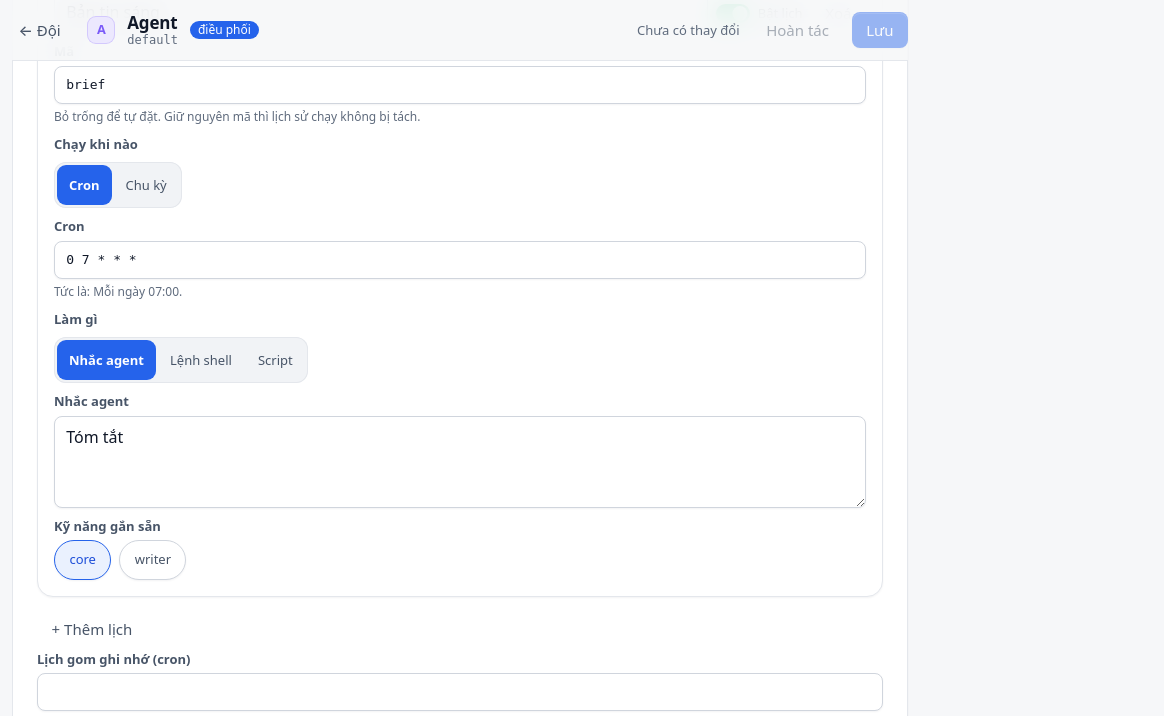
Test: a prompt to follow that was typed and taken back › does not stay on a prompt row that was a script for a moment
(page scrolled)
Click the button "Script".
click(275, 360)  # box [246,340,305,380]
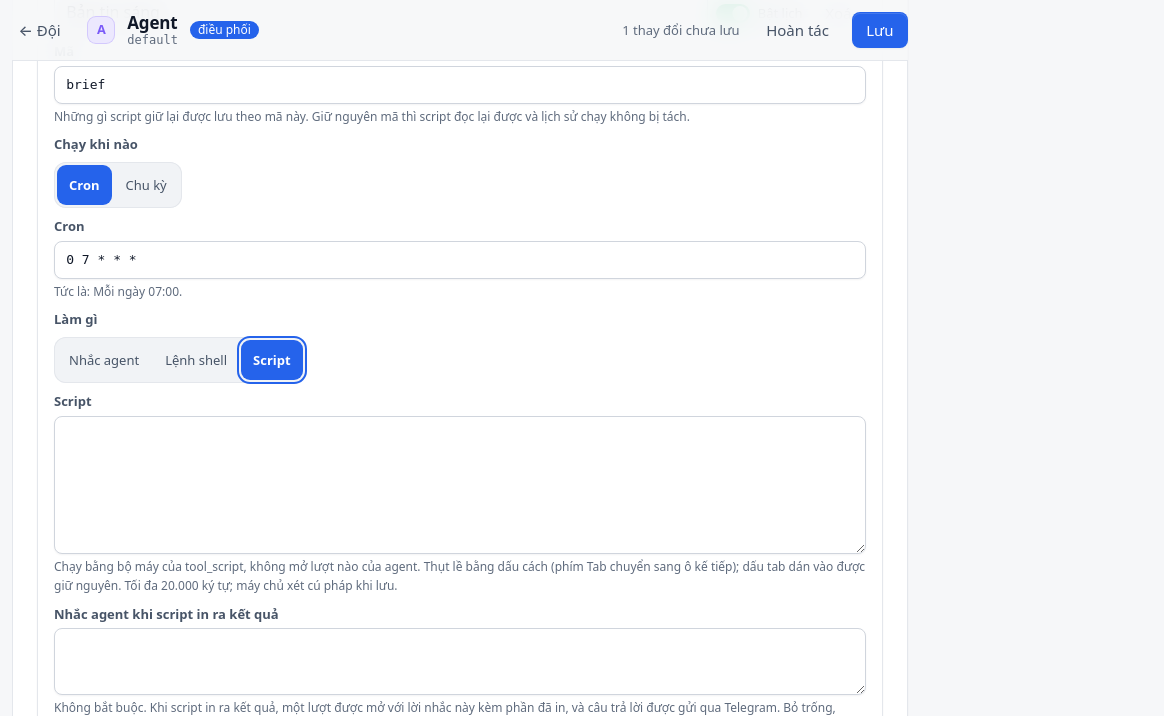
Type "Báo kết quả" into the text box labelled "Nhắc agent khi script in ra kết quả".
click(460, 662); type("Báo kết quả")  # box [54,628,866,695]
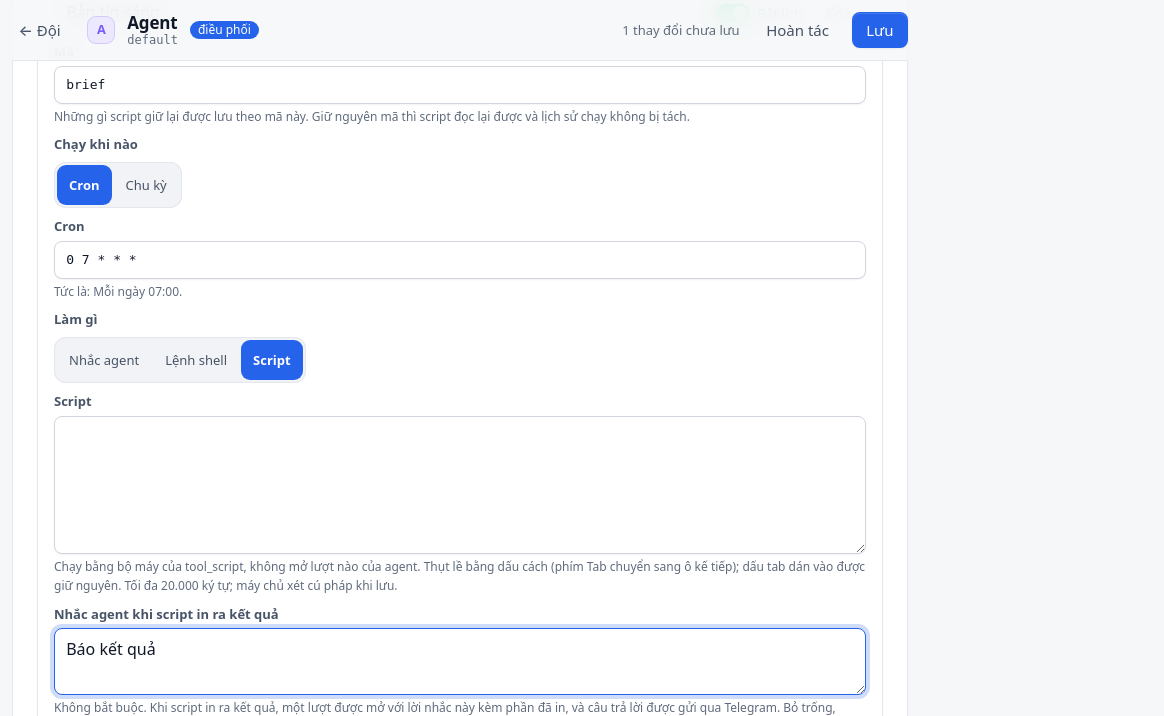
Check: the button "Lưu" is enabled, box [852,12,908,48]
Click the button "Nhắc agent".
click(104, 360)  # box [57,340,151,380]
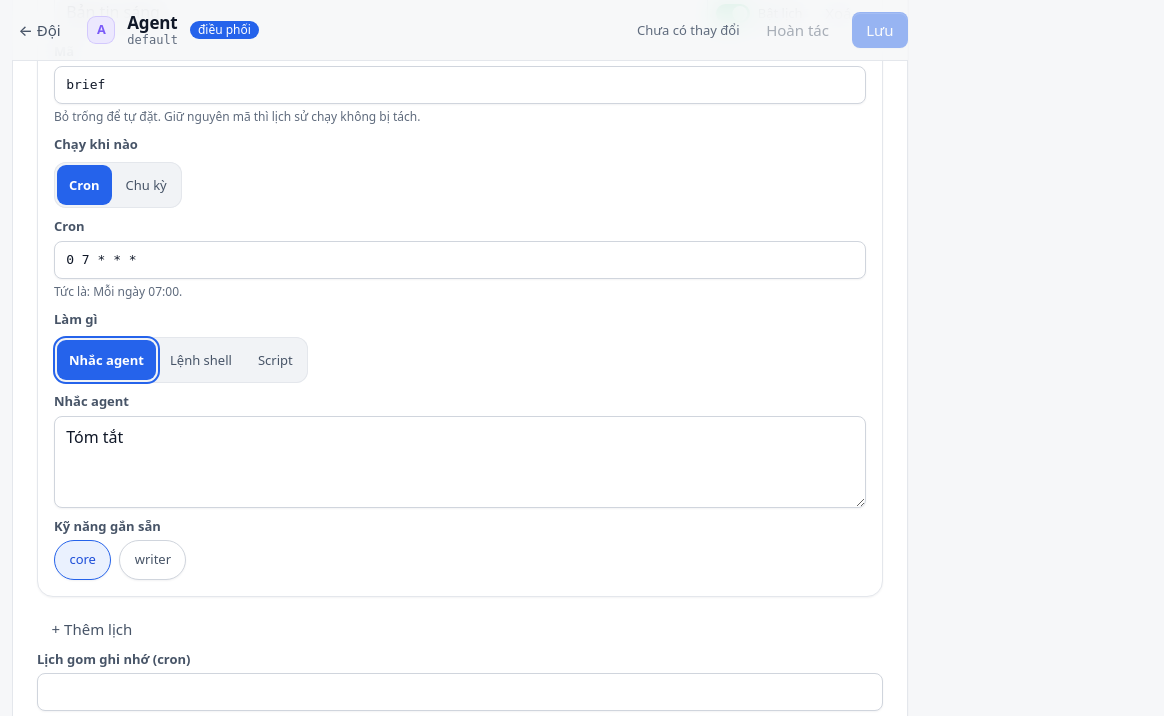
Check: the text box labelled "Nhắc agent" holds "Tóm tắt", box [54,416,866,508]
Check: the text "Chưa có thay đổi" is shown, box [637,20,740,40]
Check: the button "Lưu" is disabled, box [852,12,908,48]
